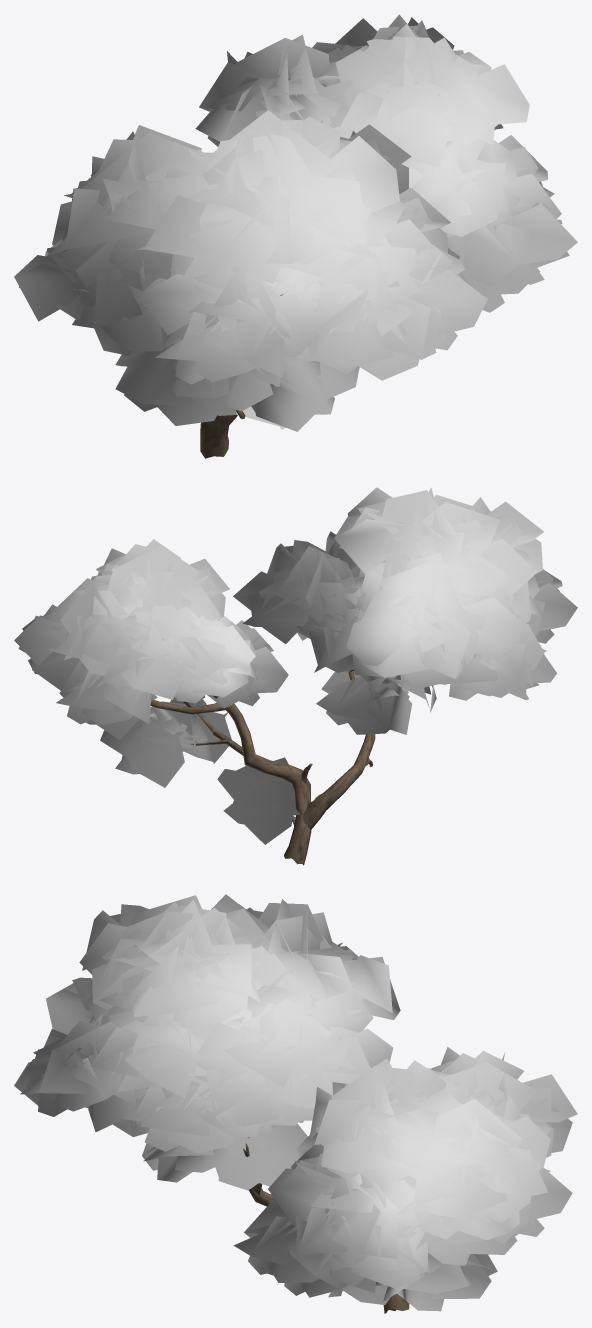
Rendered from SM_EastLands_Osmanthus_03_Trunk_A.fbx.
The picture shows the model from 3 angles, top to bottom: view 1: azimuth 30°, elevation 25°; view 2: azimuth 150°, elevation 25°; view 3: azimuth 270°, elevation 25°; orthographic projection. The views are drawn at different scales.
Visible parts, largest first — view 1: SM_EastLands_Osmanthus_03_Trunk_A_LOD0; view 2: SM_EastLands_Osmanthus_03_Trunk_A_LOD0; view 3: SM_EastLands_Osmanthus_03_Trunk_A_LOD0.
Part boxes in pixels (bbox=[...]): SM_EastLands_Osmanthus_03_Trunk_A_LOD0: bbox=[14, 14, 577, 458]; SM_EastLands_Osmanthus_03_Trunk_A_LOD0: bbox=[14, 487, 577, 865]; SM_EastLands_Osmanthus_03_Trunk_A_LOD0: bbox=[14, 894, 577, 1313].
Bounding box in the file's own units: 1452 × 1047 × 1377.
